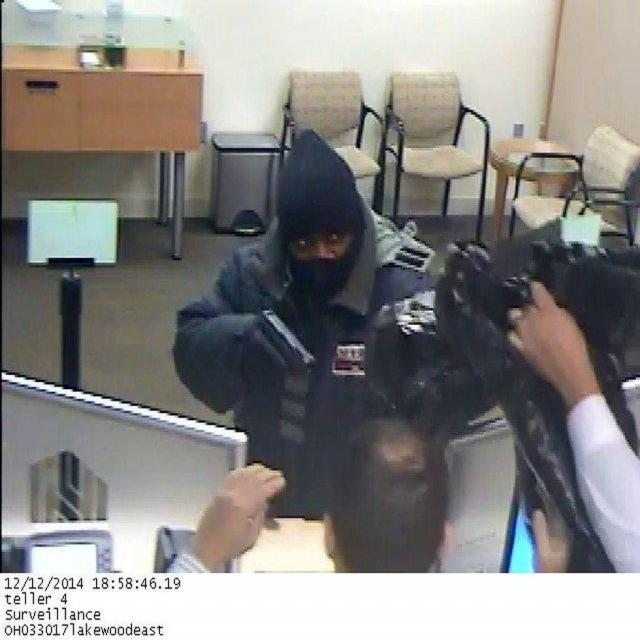gun: (253, 308, 313, 378)
